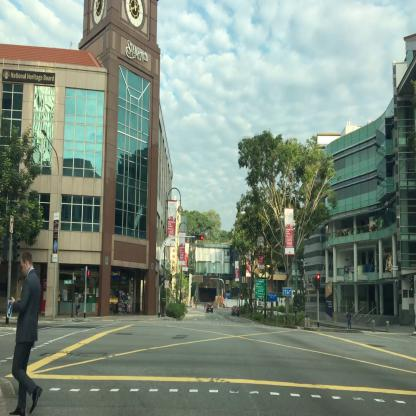red_traffic_light: (195, 234, 203, 240), (317, 274, 319, 288)
